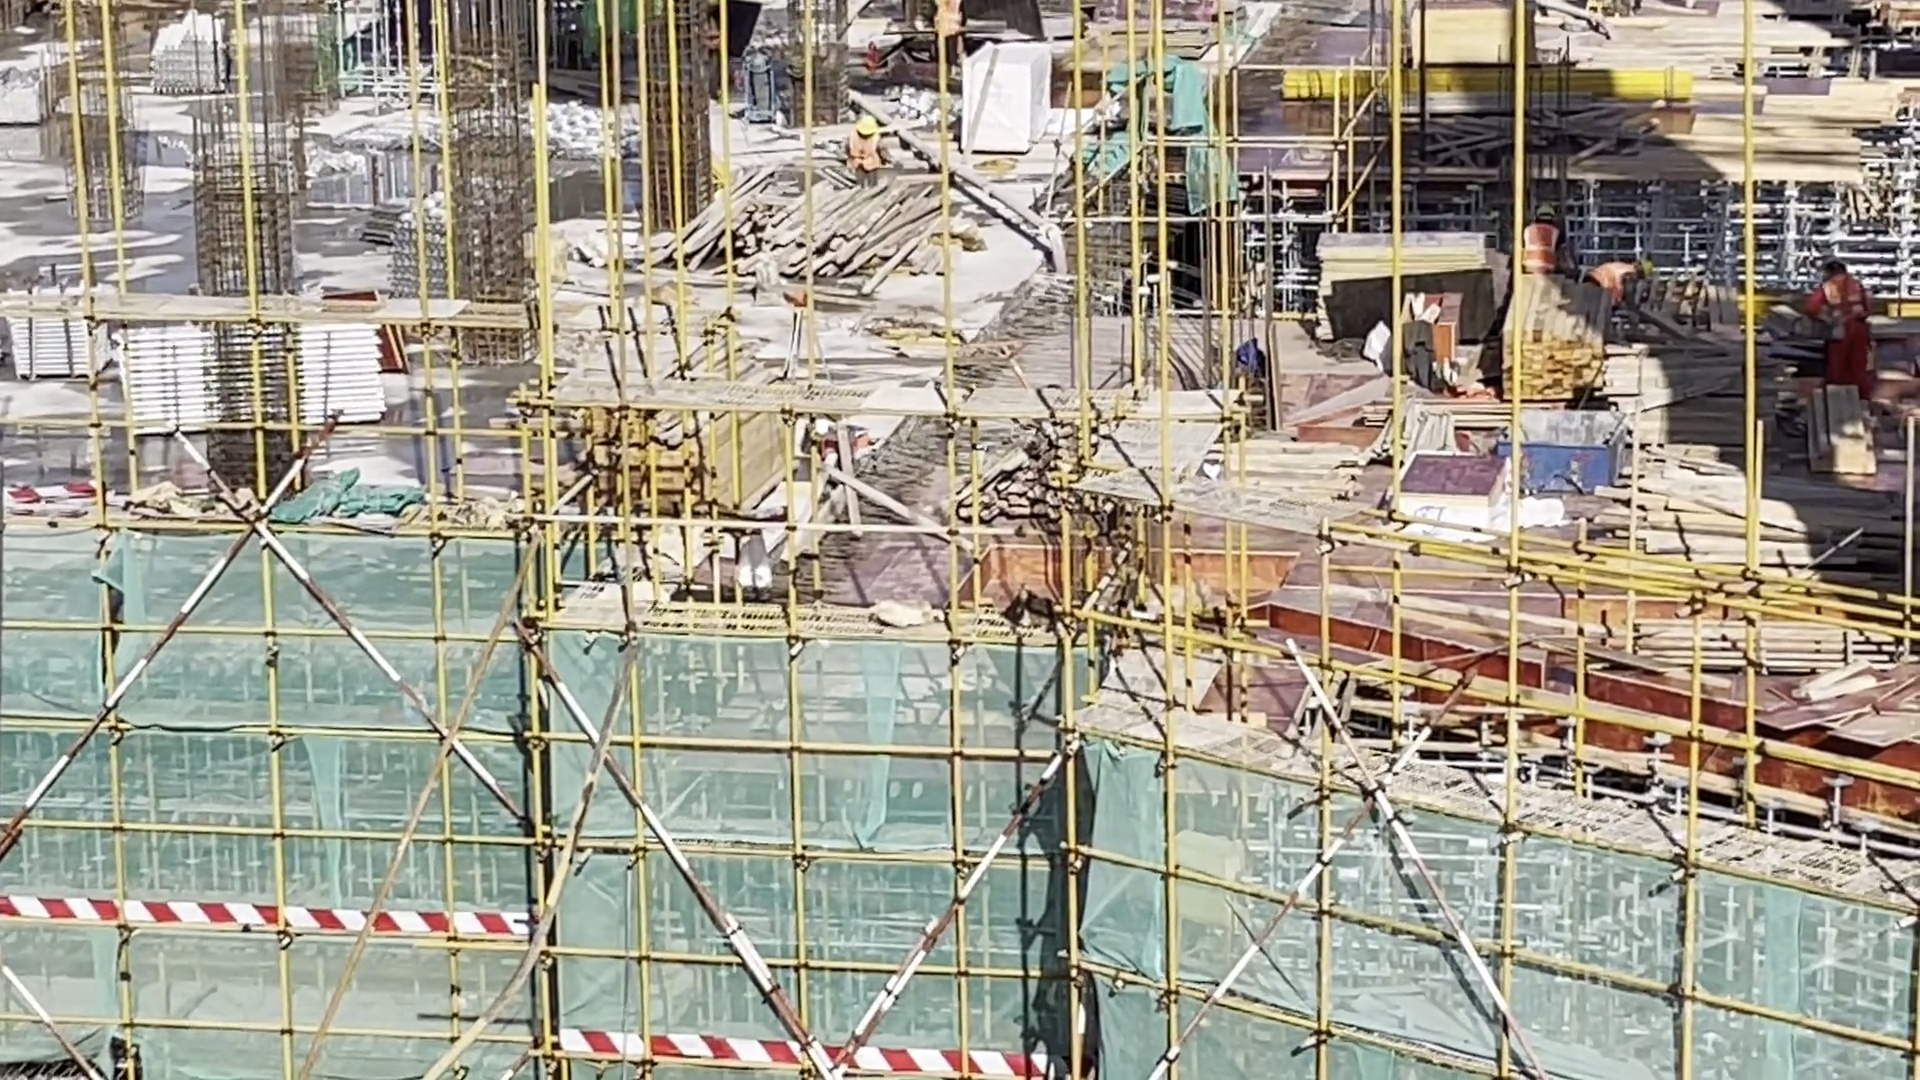helmet: (810, 417, 840, 448), (850, 113, 879, 142), (1535, 200, 1559, 233), (1628, 256, 1653, 278)
hopper: (1497, 411, 1645, 527)
person: (1799, 254, 1877, 401), (1583, 253, 1655, 319), (798, 417, 873, 471), (839, 110, 887, 192), (1520, 198, 1567, 279)
scaffold: (99, 311, 373, 442), (15, 279, 112, 371)
vest: (1816, 287, 1869, 353), (1590, 262, 1637, 304), (1522, 224, 1556, 269), (844, 136, 877, 171)
wood: (1619, 446, 1822, 587), (1628, 611, 1918, 690), (1495, 302, 1632, 415)
